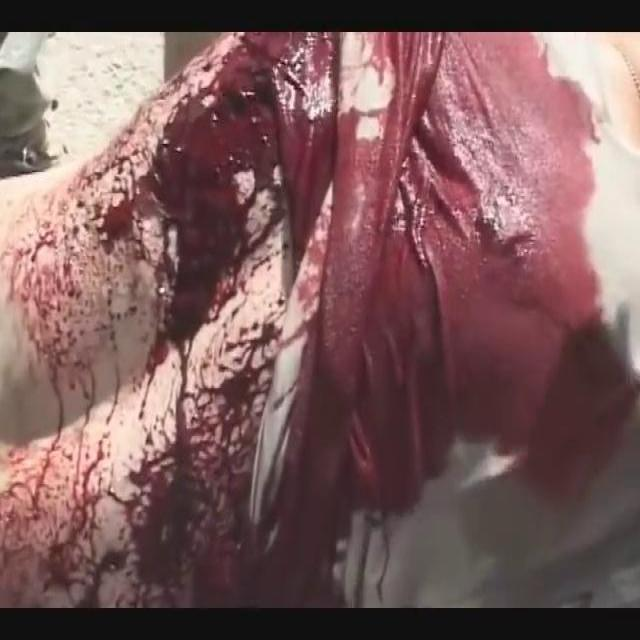flood: (66, 10, 584, 604)
